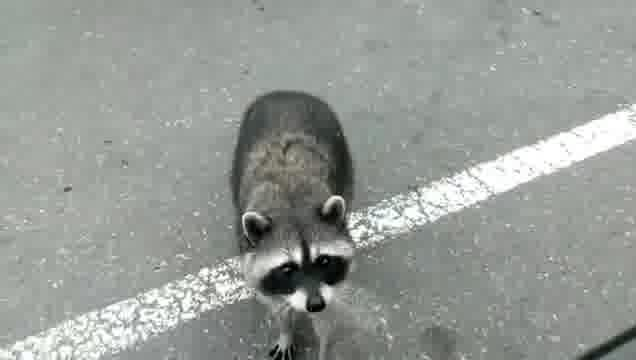raccoon: (228, 85, 364, 360)
